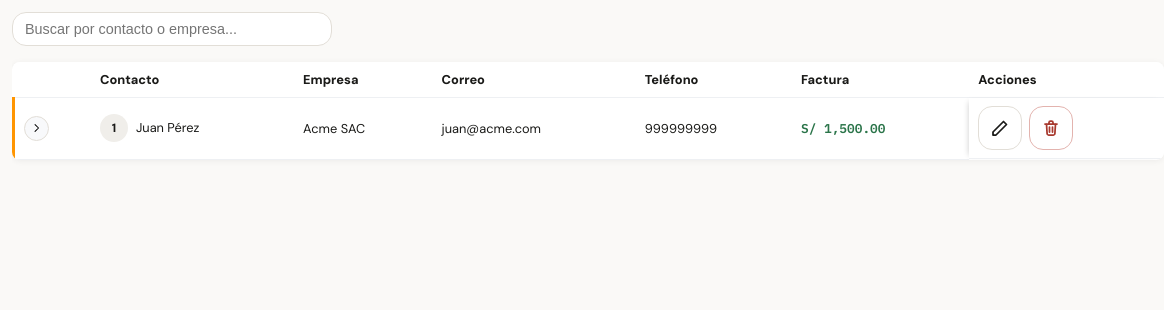
Test: LeadsTable › muestra el chip de Sub-estado en el panel expandido cuando el lead tiene sub_estado_proceso
The image size is (1164, 310).
Click the button with class "leads-table__boton-expandir" at (37,128), box [24,116,49,141]
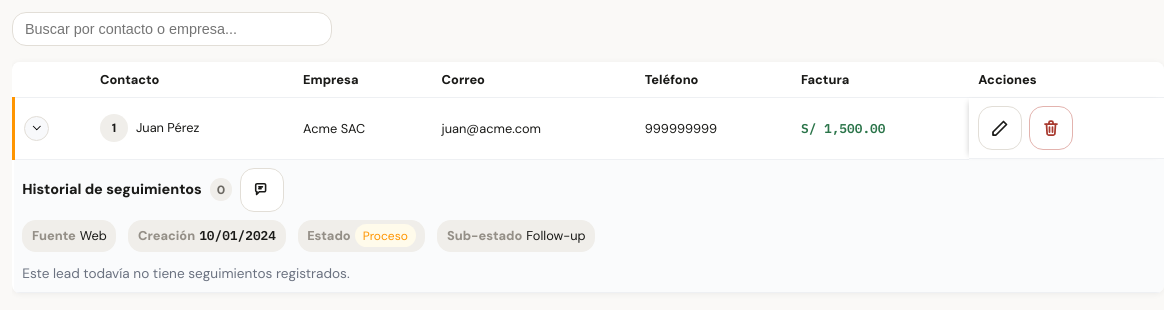
Result: the element with class "leads-table__meta-chip" showing "Sub-estado Follow-up" is shown at [437,220,595,252]
Result: the element with class "leads-table__meta-chip" shows "Follow-up" at [526,227,586,244]
